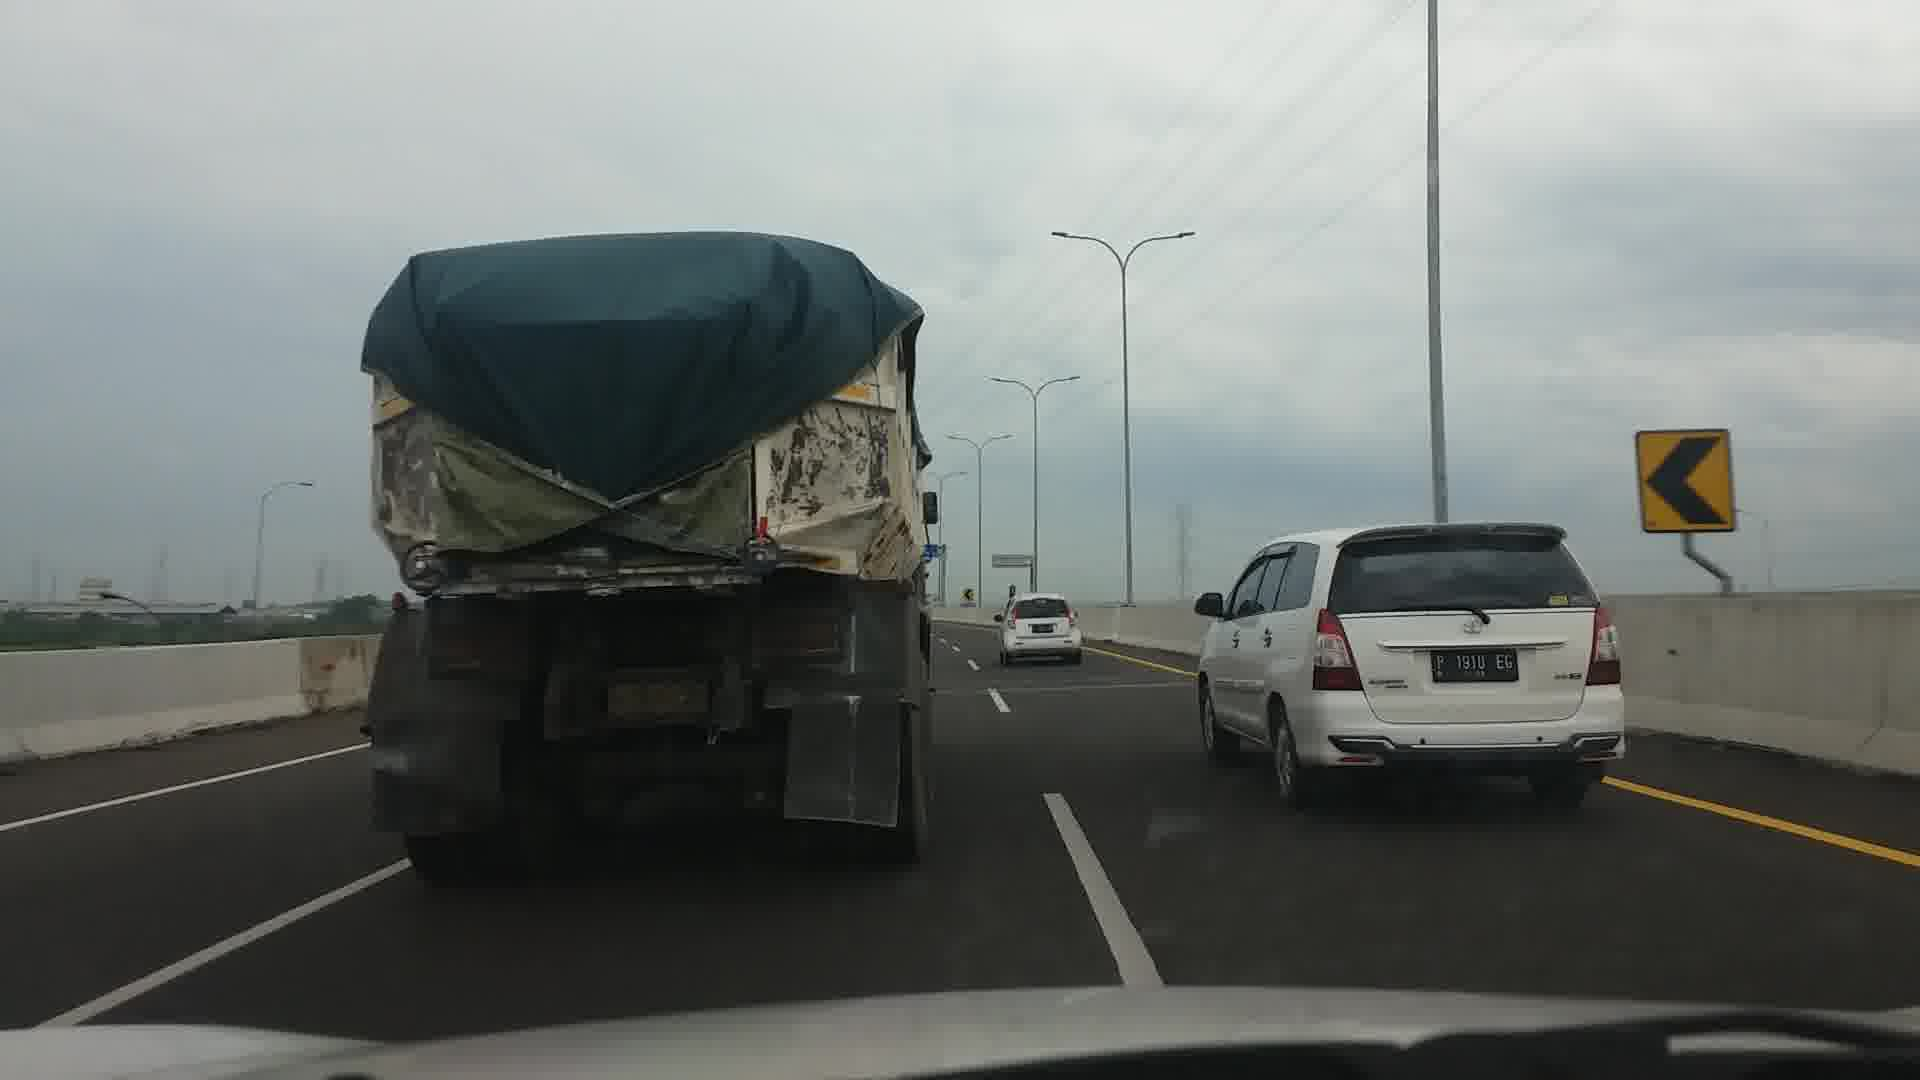plate_positive: (1431, 650, 1518, 682), (1033, 624, 1054, 633)
